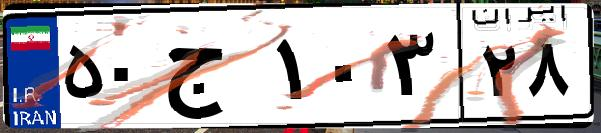0: (330, 28, 385, 110), (110, 28, 158, 98)
1: (270, 28, 330, 110)
2: (475, 38, 525, 113)
3: (385, 28, 445, 110)
5: (57, 26, 110, 100)
8: (525, 38, 570, 115)
ج: (158, 20, 270, 120)
